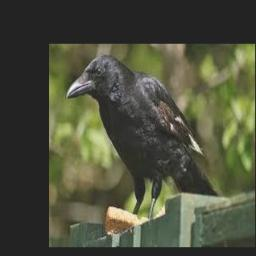Crow: (66, 54, 221, 223)
